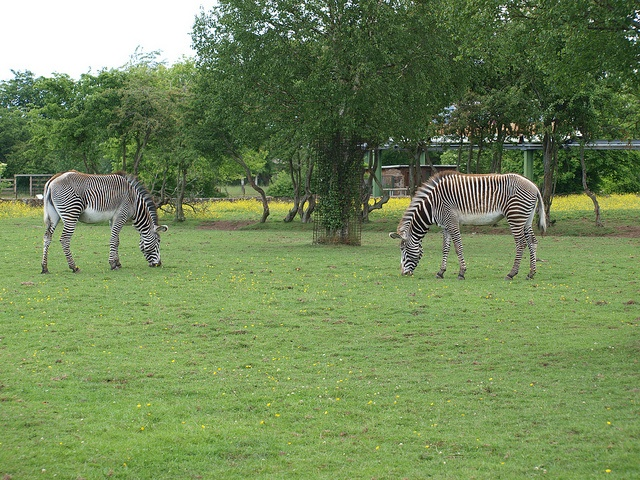zebra: (468, 225, 627, 339), (103, 222, 232, 330)
